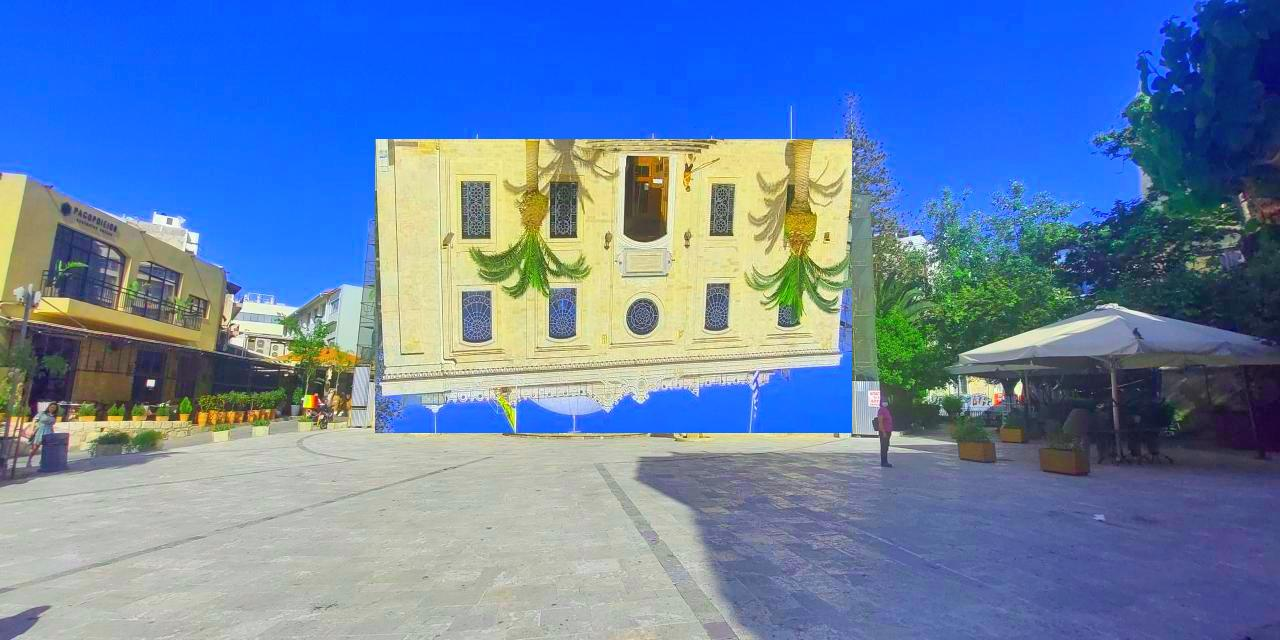Agios Titos: (376, 140, 853, 434)
